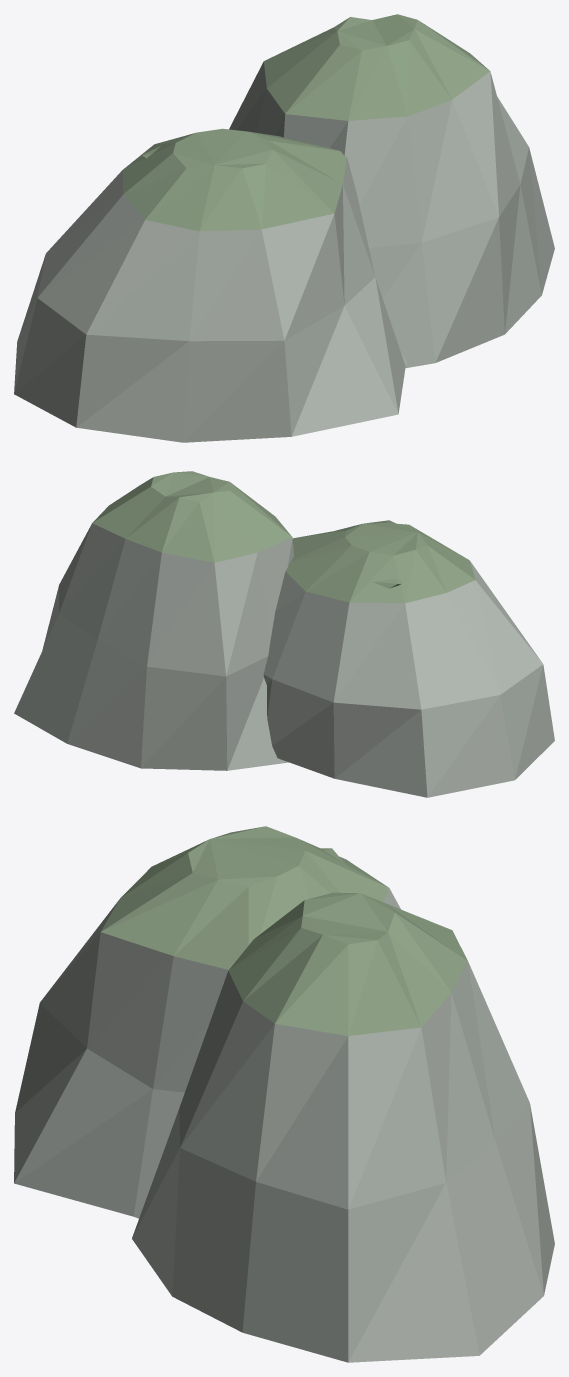
File: SM_RidgeOutcrop.fbx
The picture shows the model from 3 angles, top to bottom: view 1: azimuth 30°, elevation 25°; view 2: azimuth 150°, elevation 25°; view 3: azimuth 270°, elevation 25°; orthographic projection. The views are drawn at different scales.
Parts seen in each view (by area): view 1: SM_RidgeOutcrop; view 2: SM_RidgeOutcrop; view 3: SM_RidgeOutcrop.
Part boxes in pixels (left/top/right/bottom): SM_RidgeOutcrop: left=14, top=14, right=554, bottom=442; SM_RidgeOutcrop: left=14, top=471, right=554, bottom=797; SM_RidgeOutcrop: left=14, top=826, right=554, bottom=1362.
Size of the model in its own units: 10.57 by 7.06 by 4.98.
